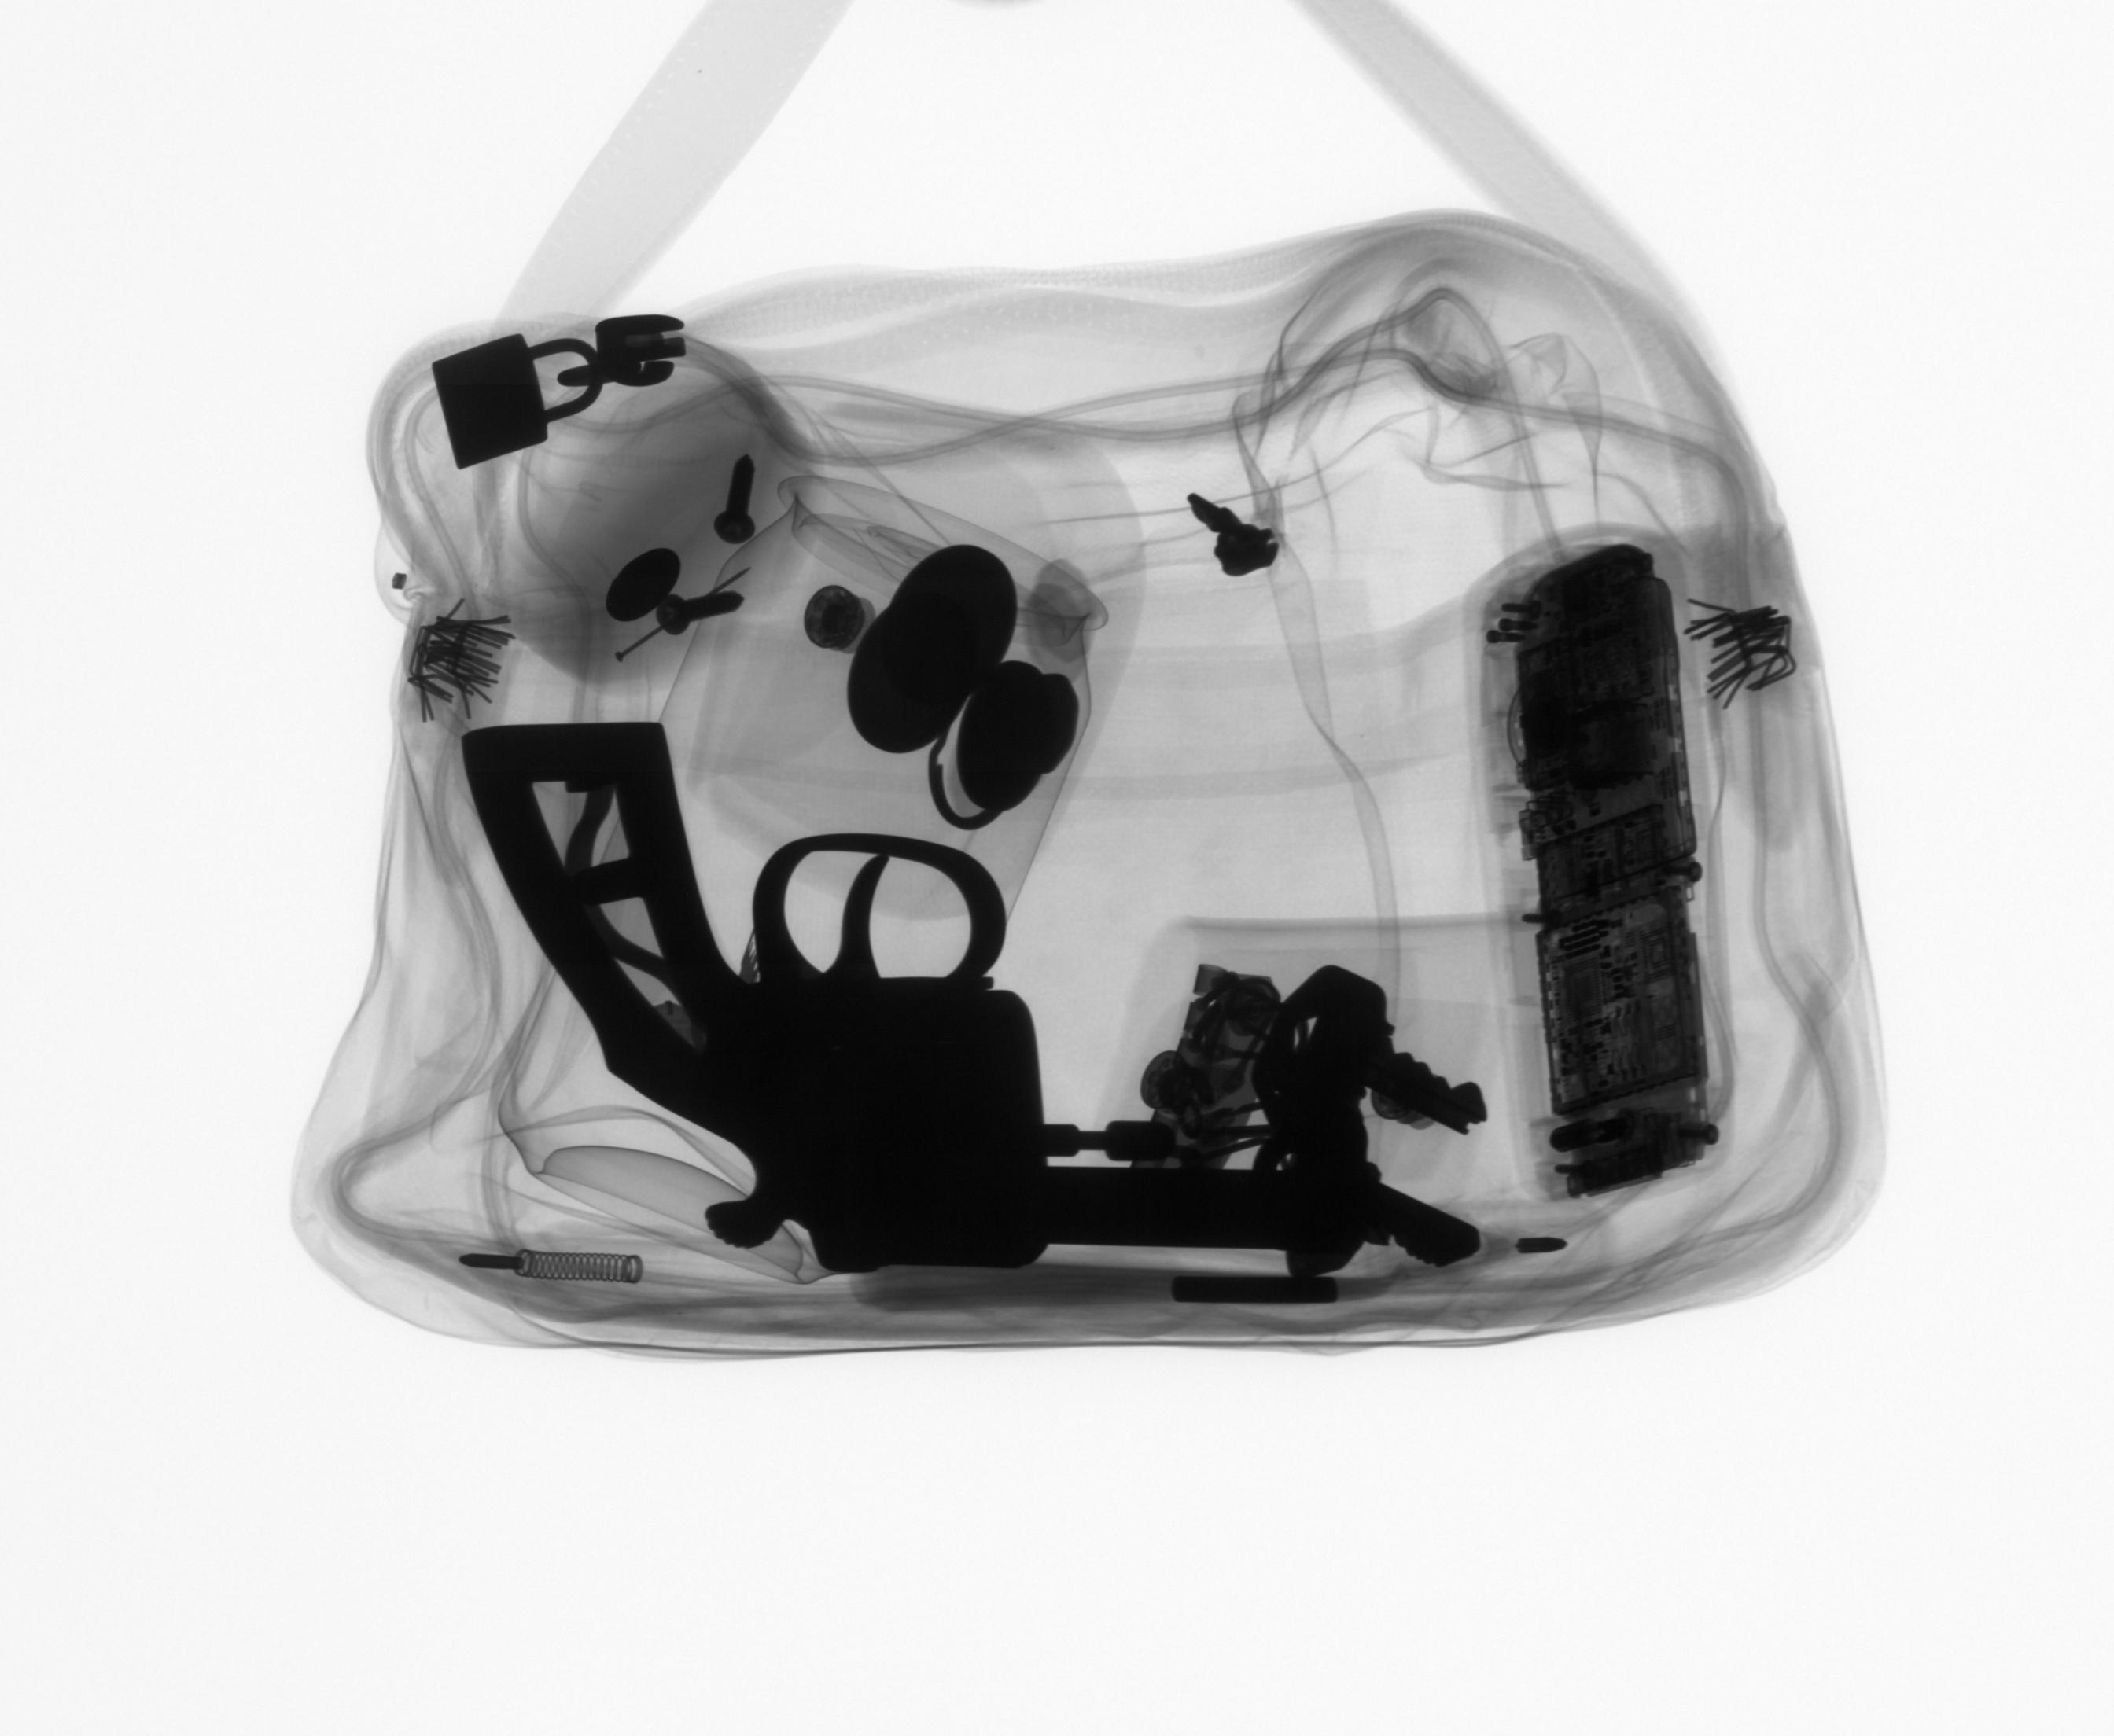Handgun: (449, 715, 1414, 1287)
